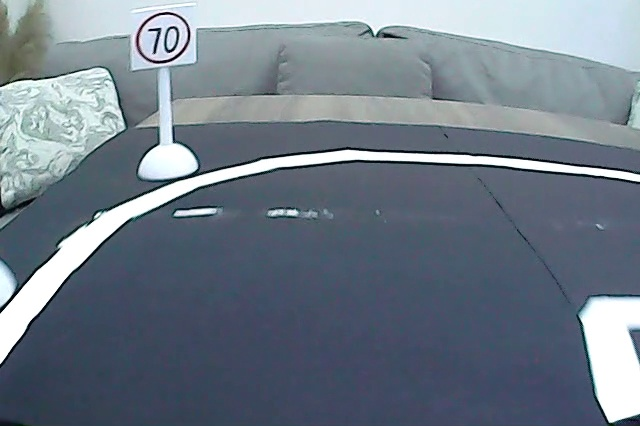speed limit 70: (135, 9, 194, 67)
